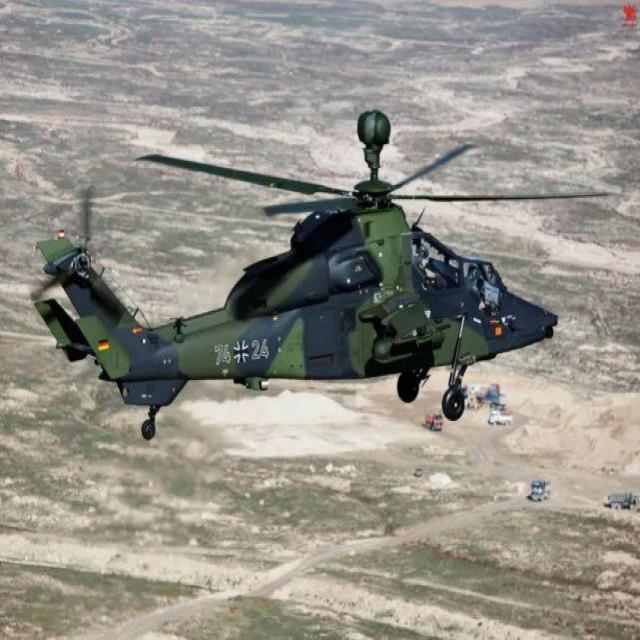MIL_HELO: (28, 96, 603, 467)
